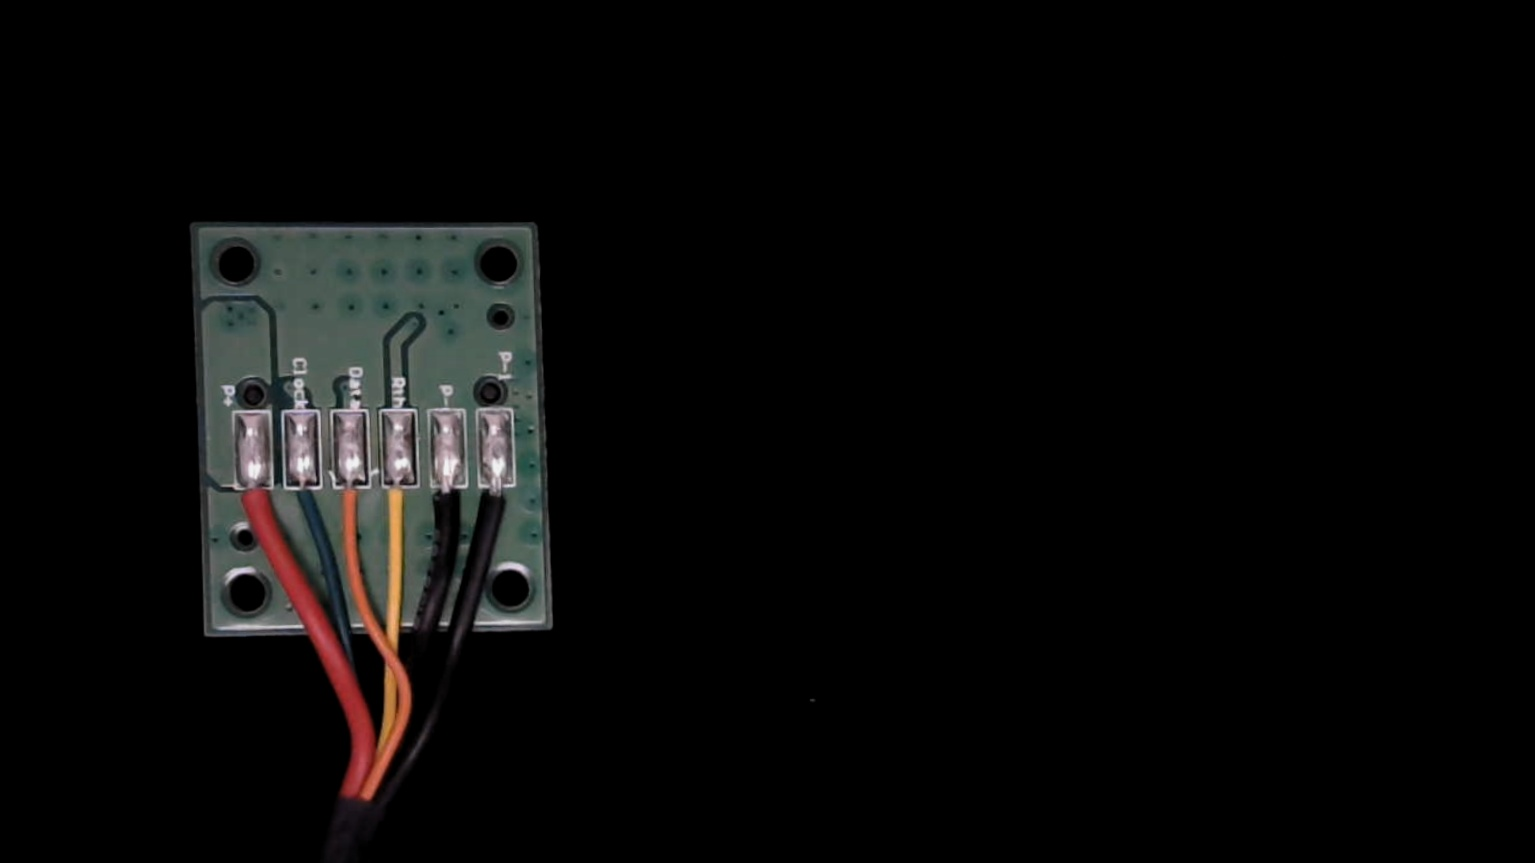Black: (430, 472, 469, 544)
Black1: (479, 470, 517, 543)
Green: (281, 471, 324, 541)
Orange: (334, 471, 369, 545)
Red: (232, 471, 274, 546)
Yellow: (380, 472, 421, 549)
